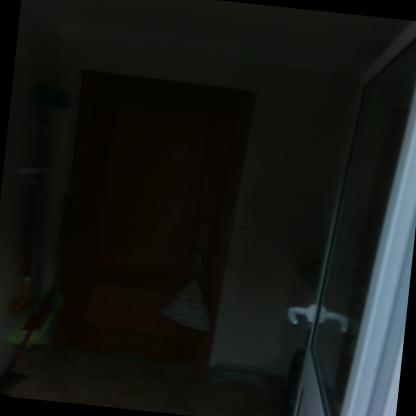closed: (31, 51, 294, 408)
